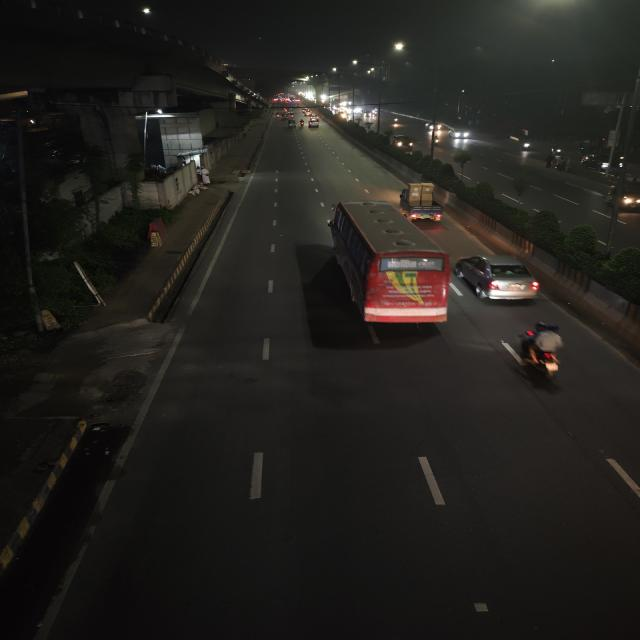bus: (321, 200, 452, 333)
car: (452, 247, 544, 313), (583, 152, 627, 174), (390, 134, 415, 152), (447, 128, 472, 140), (309, 118, 320, 130)
cng: (604, 182, 640, 216), (288, 119, 297, 130)
motorcycle: (516, 319, 566, 383), (519, 138, 531, 152), (432, 135, 442, 147), (298, 117, 306, 128)
pickup_van: (398, 182, 449, 228)
